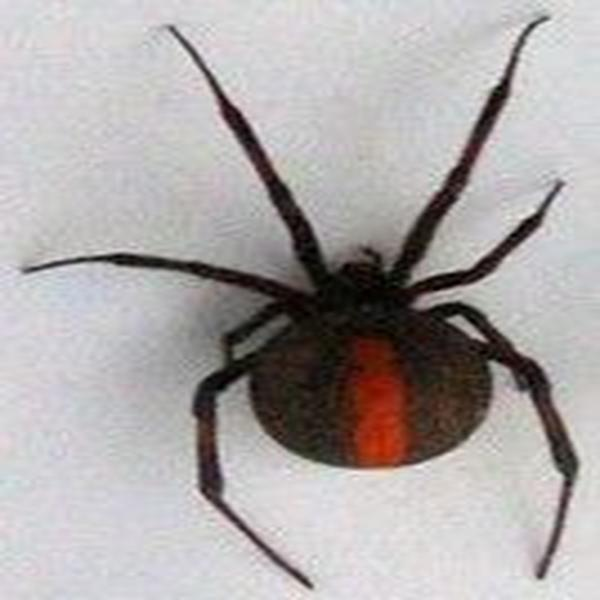Redback Spider: (49, 19, 578, 583)
